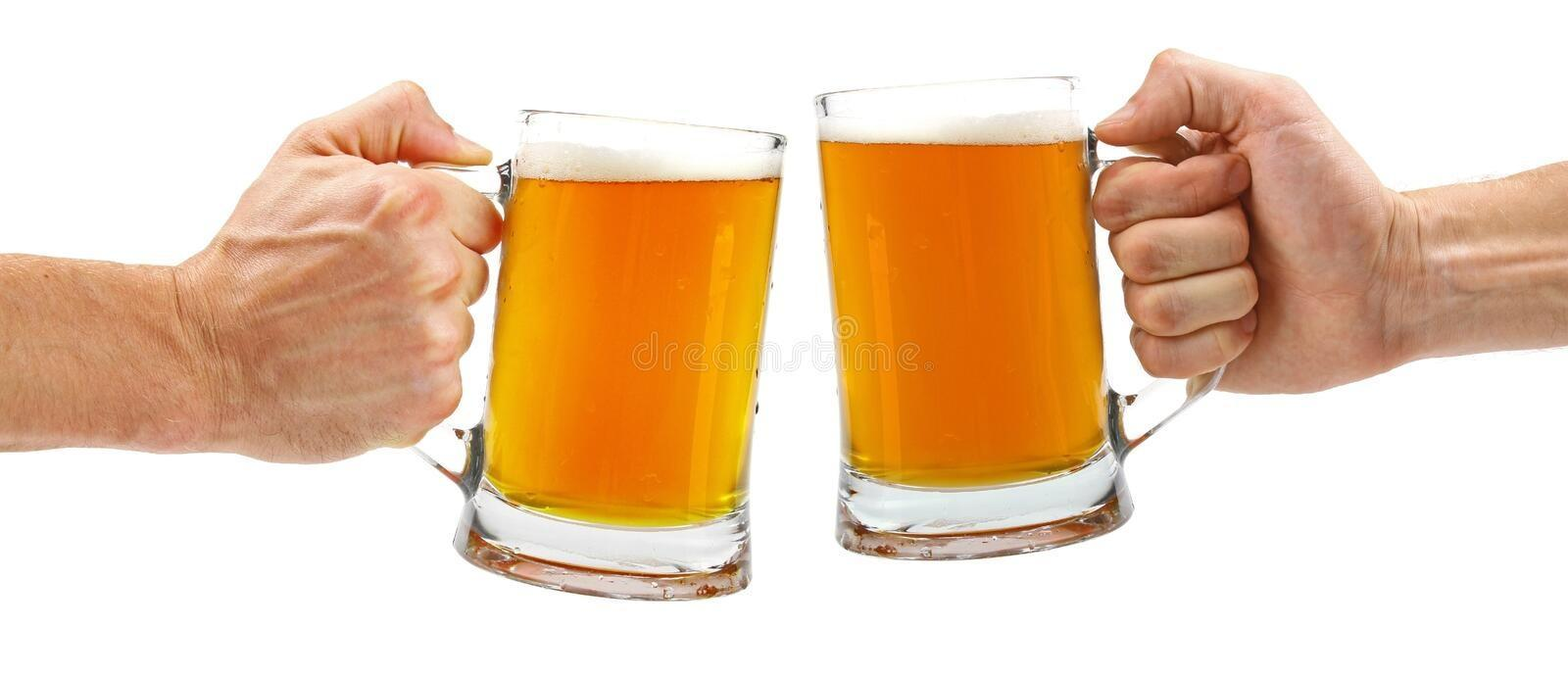glass-mug: (807, 64, 1241, 564), (378, 100, 794, 605)
